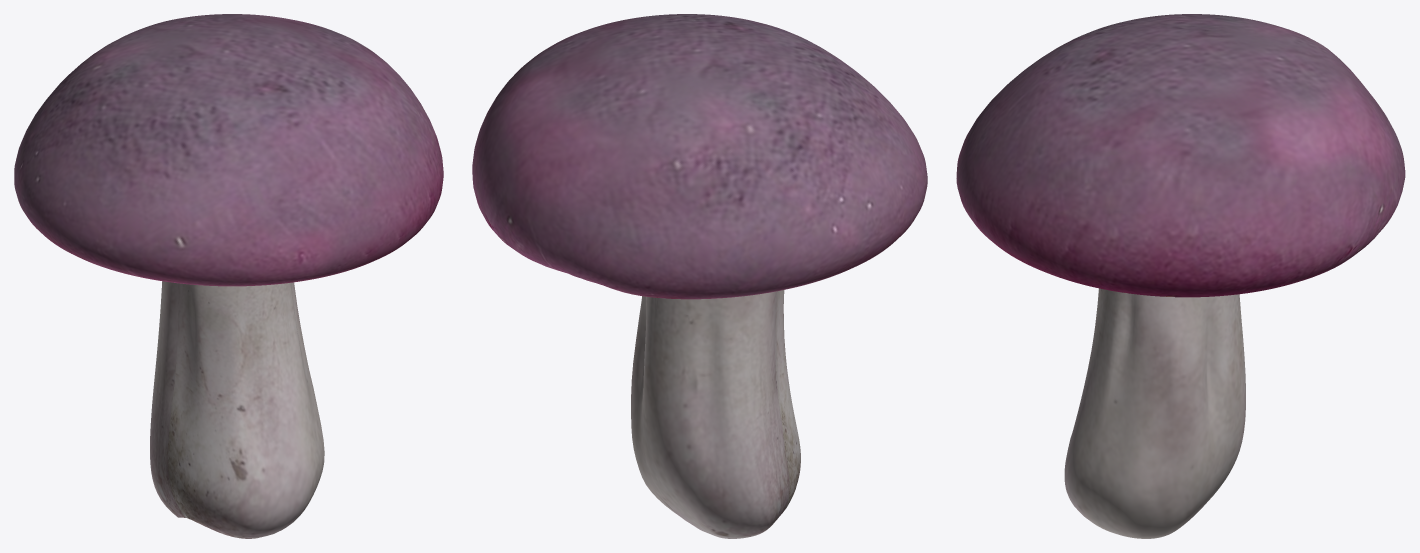
File: SENE_33.fbx
3 views of the same model, side by side, from view 1: azimuth 30°, elevation 25°; view 2: azimuth 150°, elevation 25°; view 3: azimuth 270°, elevation 25° (orthographic). The views are drawn at different scales.
Parts seen in each view (by area): view 1: SENE_33; view 2: SENE_33; view 3: SENE_33.
Part boxes in pixels (box(x1,y1,x2,y2)): SENE_33: box(14, 14, 443, 538); SENE_33: box(472, 14, 927, 538); SENE_33: box(956, 14, 1405, 538).
Bounding box in the file's own units: 42.37 × 50.29 × 42.05.
Materials: 1 (1 with a texture image).
